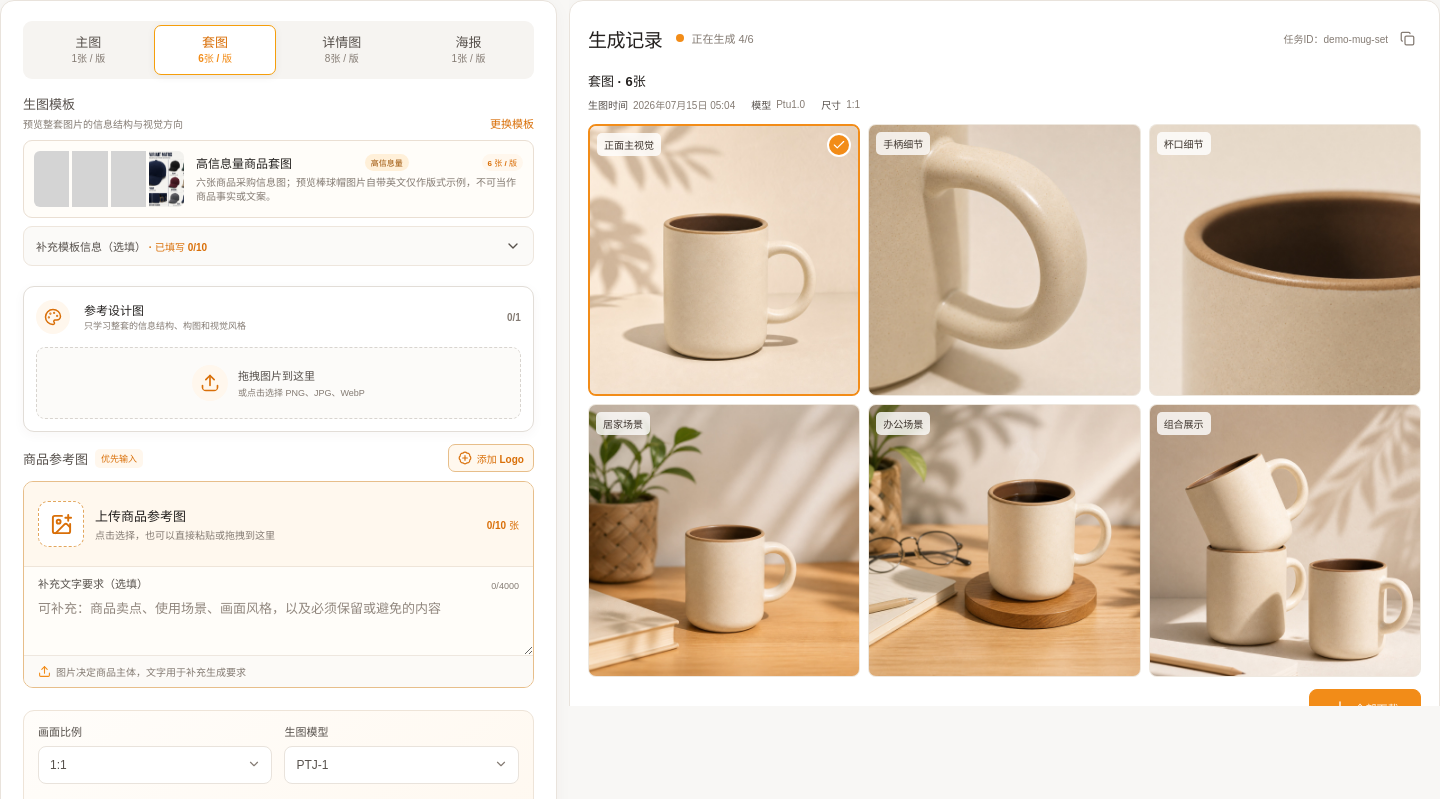
Test: GenerationPage › 套图和详情图各自展示高信息量默认模板，主图使用设计参考与产品素材双输入
Expected: the element labelled "生图模板" is shown, [23,94,534,266]
Click the button with aria-label "主图，1张每版": (88, 50) [27,25,150,75]
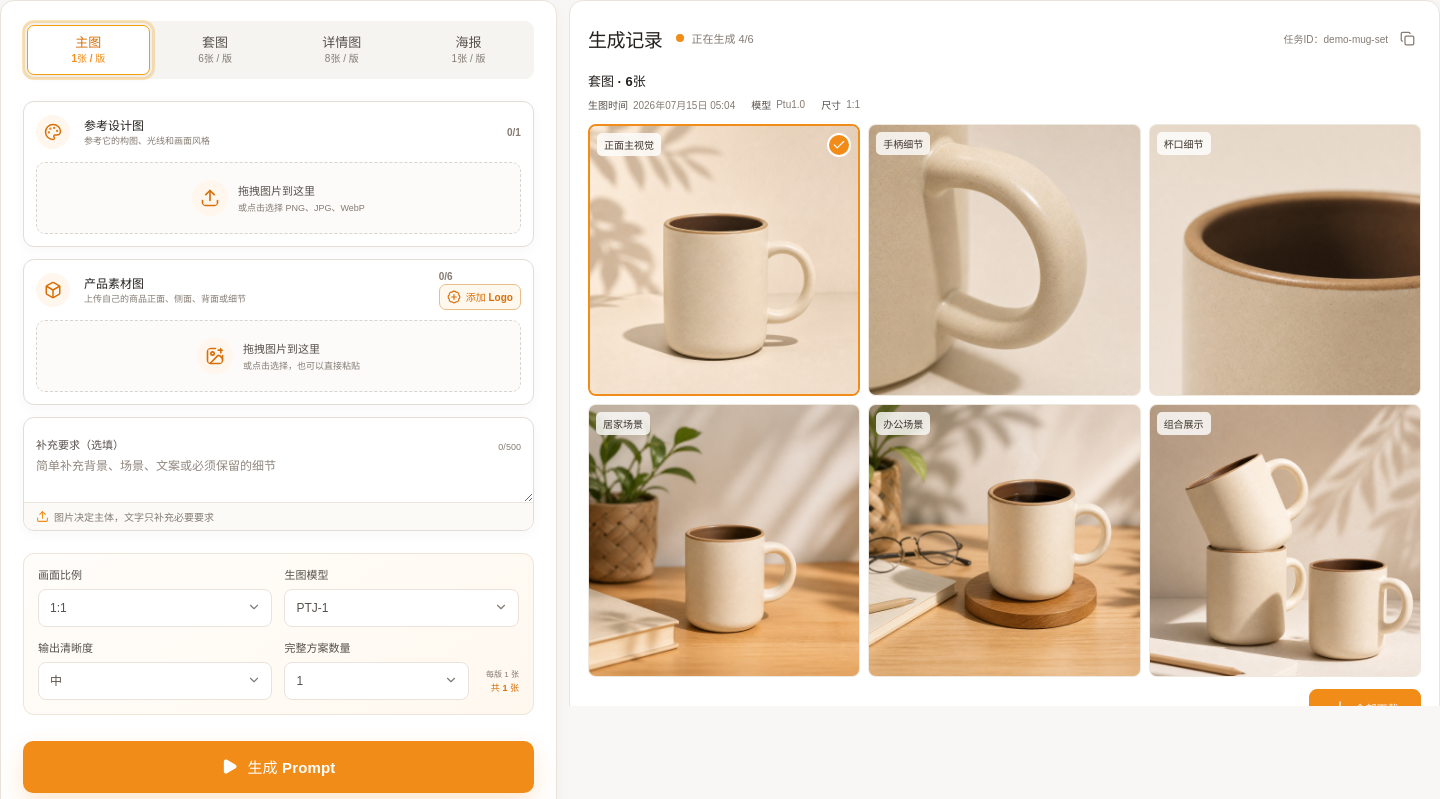
Result: the text labelled "生图模板" is gone
Result: the element named "主图素材与补充说明" is shown at [23,101,534,531]
Result: the element labelled "产品素材图" is shown at [23,259,534,405]
Click the button with aria-label "详情图，8张每版": (342, 50) [280,25,403,75]
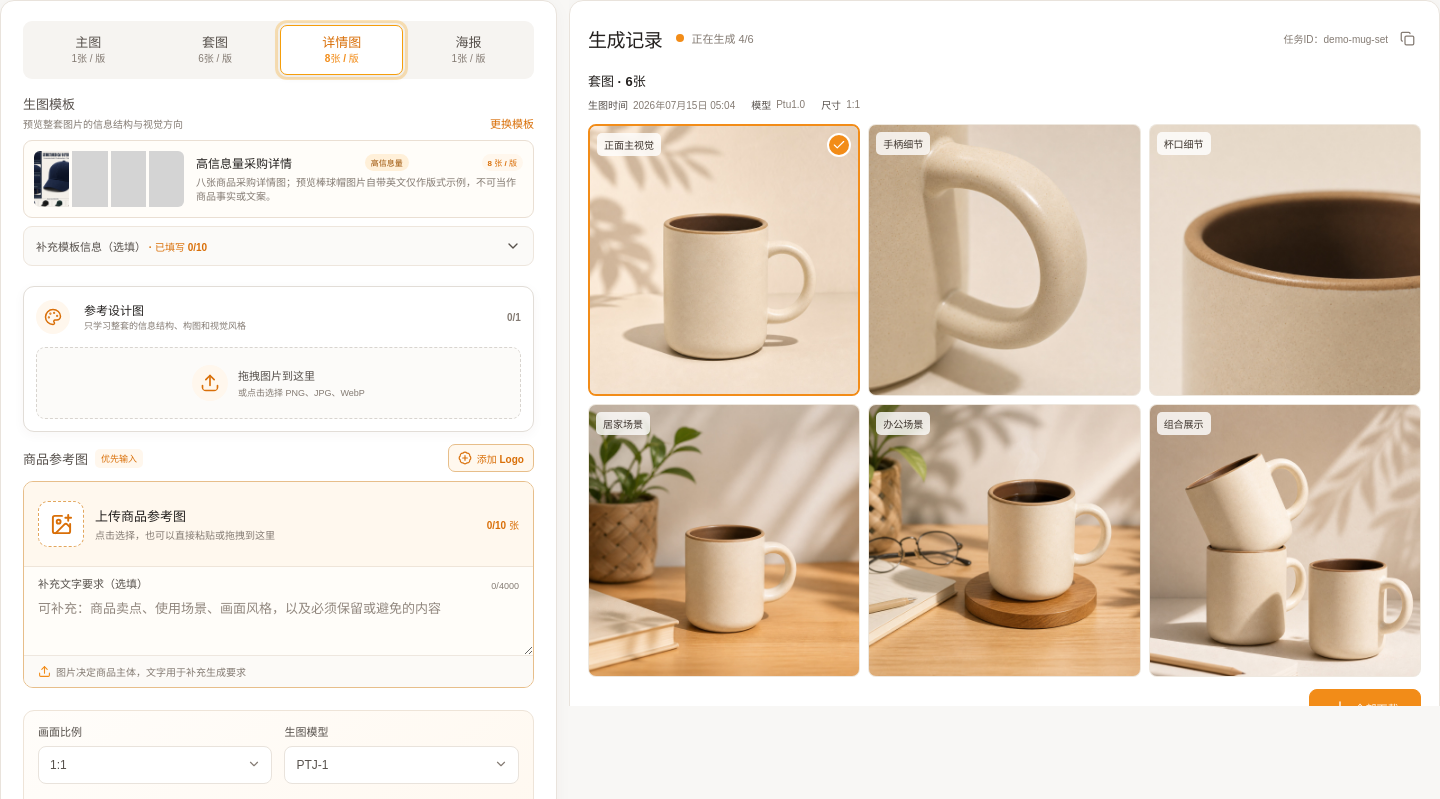
Result: the element labelled "生图模板" is shown at [23,94,534,266]
Result: the text "高信息量采购详情" is shown at [196,154,292,170]
Result: the element named "商品图片与补充说明" is shown at [23,286,534,688]
Note: 套图和详情图维护独立默认选择，切回套图不会被详情图模板污染。
Click the button with aria-label "套图，6张每版": (215, 50) [154,25,276,75]
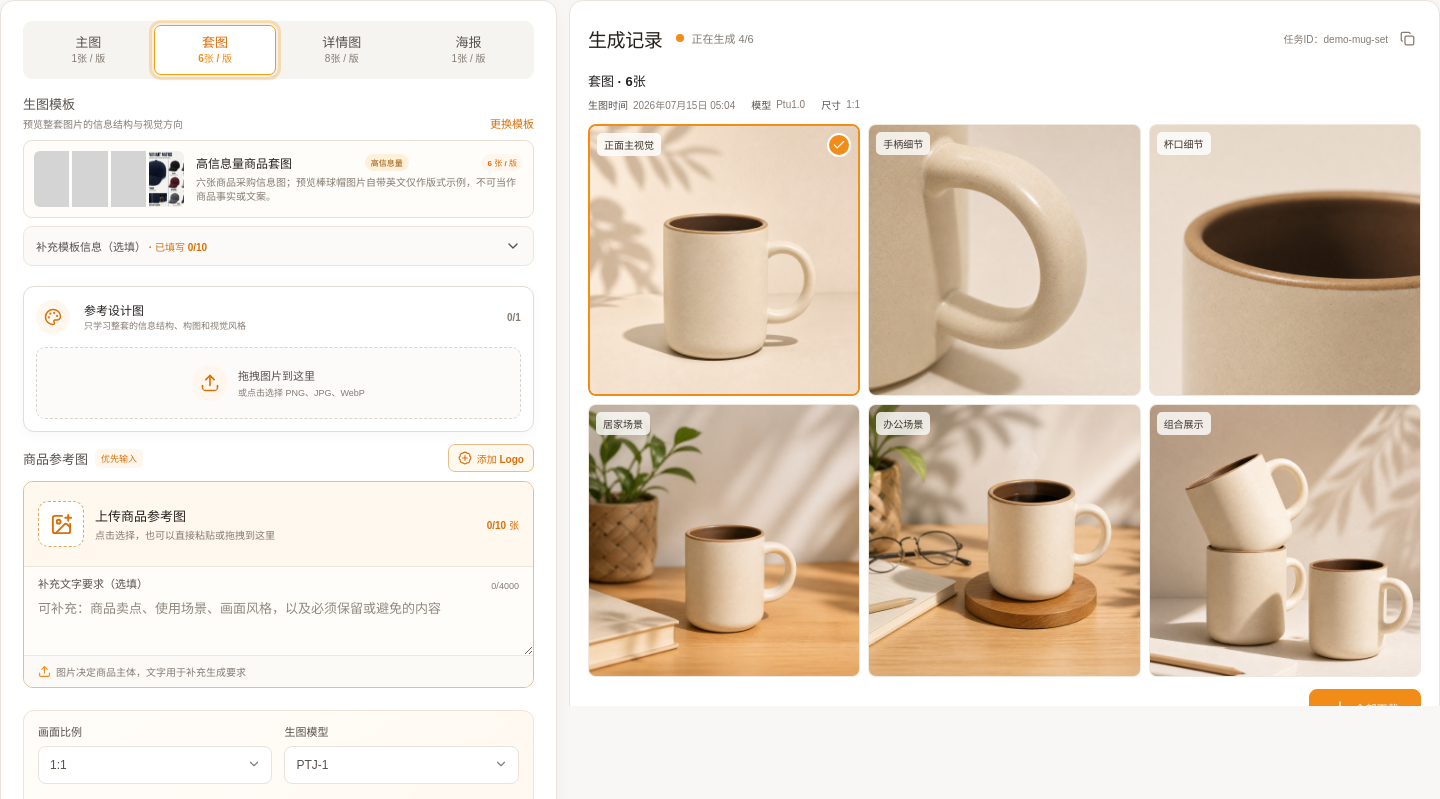
Result: the text "高信息量商品套图" is shown at [196,154,292,170]
